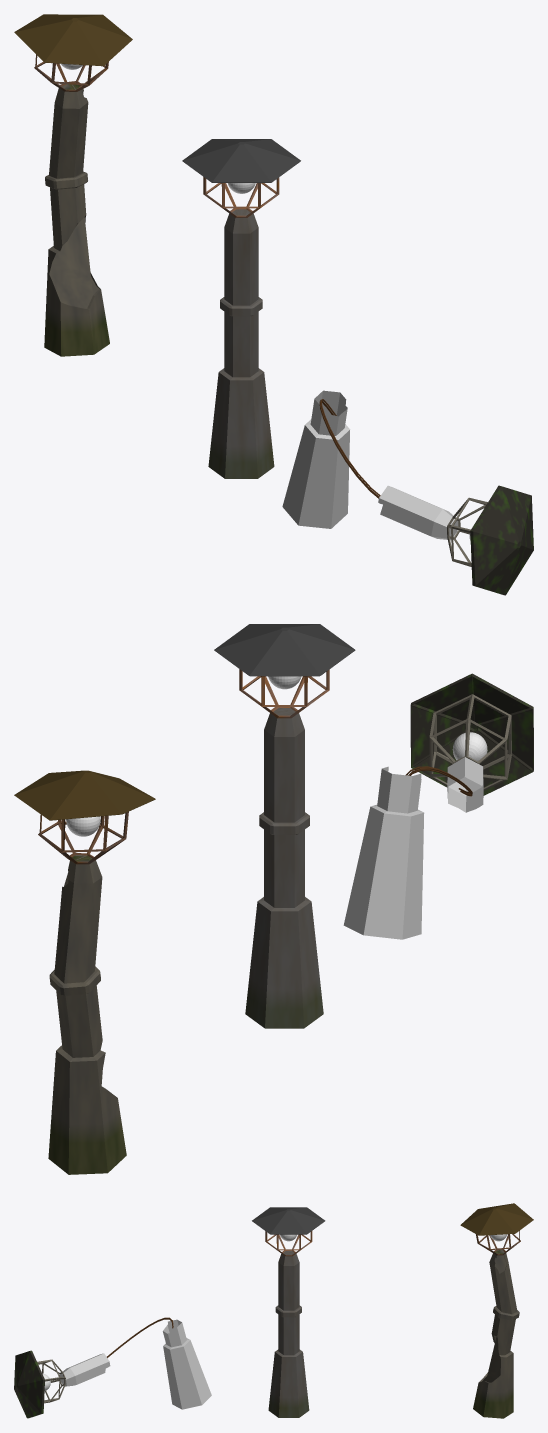
Rendered from lamp.fbx.
3 views of the same model, one above another, from view 1: azimuth 30°, elevation 25°; view 2: azimuth 150°, elevation 25°; view 3: azimuth 270°, elevation 25° (orthographic). The views are drawn at different scales.
Parts seen in each view (by area): view 1: Cylinder.001, Cylinder.008, Cylinder.009, Cylinder.005, Cylinder.002, Cylinder.006, Cylinder.007; view 2: Cylinder.001, Cylinder.008, Cylinder.009, Cylinder.005, Cylinder.002, Cylinder.007, Cylinder.006, Sphere.002; view 3: Cylinder.001, Cylinder.008, Cylinder.009, Cylinder.005, Cylinder.002, Cylinder.007, Cylinder.006.
Boxes of the visible parts, x1,y1,x2,y2 form: Cylinder.001: (14, 14, 132, 356); Cylinder.008: (208, 209, 274, 478); Cylinder.009: (282, 390, 458, 540); Cylinder.005: (470, 485, 533, 595); Cylinder.002: (182, 139, 300, 182); Cylinder.006: (203, 177, 279, 217); Cylinder.007: (447, 497, 487, 566); Cylinder.001: (14, 770, 155, 1174); Cylinder.008: (245, 708, 323, 1028); Cylinder.009: (343, 757, 483, 939); Cylinder.005: (410, 673, 533, 795); Cylinder.002: (214, 624, 355, 676); Cylinder.007: (429, 694, 511, 790); Cylinder.006: (239, 669, 329, 718); Sphere.002: (452, 732, 487, 761); Cylinder.001: (460, 1203, 533, 1418); Cylinder.008: (268, 1251, 309, 1417); Cylinder.009: (59, 1319, 211, 1409); Cylinder.005: (14, 1350, 44, 1418); Cylinder.002: (252, 1207, 325, 1234); Cylinder.007: (37, 1359, 65, 1403); Cylinder.006: (265, 1231, 312, 1256).
Bounding box in the file's own units: 1200 × 518 × 228.
